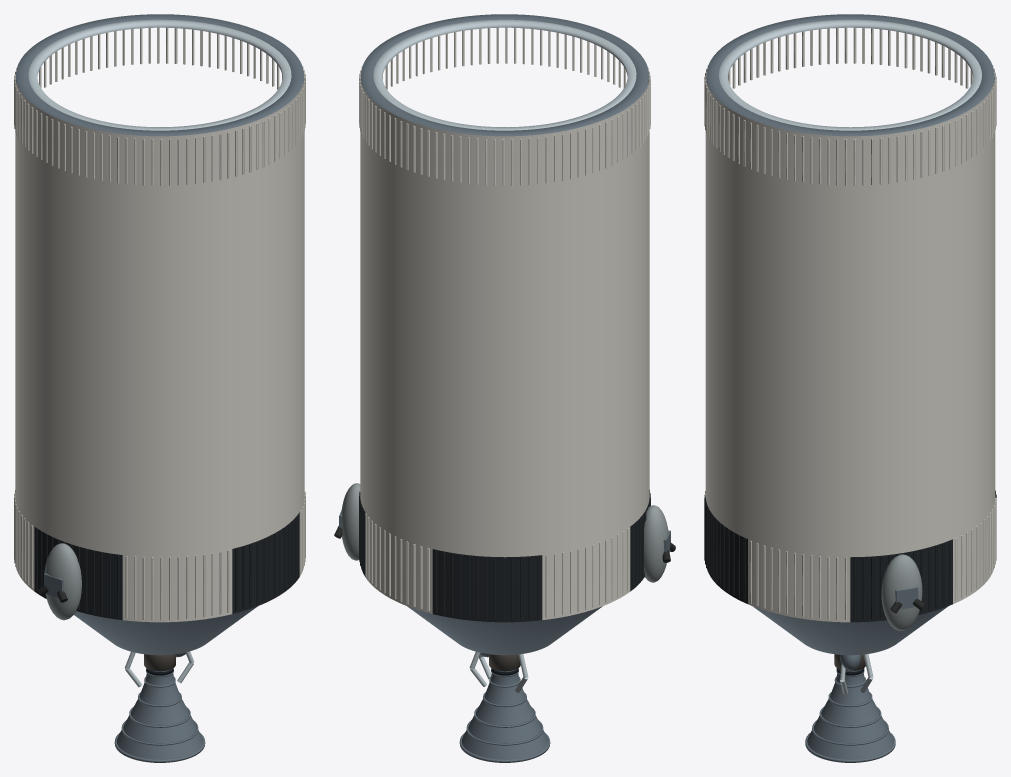
Rendered from s_ivb.glb.
3 views of the same model, side by side, from view 1: azimuth 30°, elevation 25°; view 2: azimuth 150°, elevation 25°; view 3: azimuth 270°, elevation 25° (orthographic).
Visible parts, largest first — view 1: s_ivb.skin.mesh, s_ivb.mesh, s_ivb.j2_01.nozzle.mesh, s_ivb.aps_02.mesh, s_ivb.j2_01.mesh; view 2: s_ivb.skin.mesh, s_ivb.mesh, s_ivb.j2_01.nozzle.mesh, s_ivb.aps_02.mesh, s_ivb.aps_01.mesh, s_ivb.j2_01.mesh; view 3: s_ivb.skin.mesh, s_ivb.mesh, s_ivb.j2_01.nozzle.mesh, s_ivb.aps_01.mesh, s_ivb.j2_01.mesh.
Boxes of the visible parts, bbox=[...] form: s_ivb.skin.mesh: bbox=[14, 27, 305, 622]; s_ivb.mesh: bbox=[16, 14, 303, 655]; s_ivb.j2_01.nozzle.mesh: bbox=[114, 668, 205, 762]; s_ivb.aps_02.mesh: bbox=[38, 543, 81, 620]; s_ivb.j2_01.mesh: bbox=[125, 651, 194, 687]; s_ivb.skin.mesh: bbox=[359, 27, 650, 622]; s_ivb.mesh: bbox=[361, 14, 648, 655]; s_ivb.j2_01.nozzle.mesh: bbox=[459, 668, 550, 762]; s_ivb.aps_02.mesh: bbox=[644, 505, 675, 582]; s_ivb.aps_01.mesh: bbox=[334, 483, 360, 560]; s_ivb.j2_01.mesh: bbox=[469, 651, 528, 692]; s_ivb.skin.mesh: bbox=[704, 27, 996, 622]; s_ivb.mesh: bbox=[706, 14, 994, 655]; s_ivb.j2_01.nozzle.mesh: bbox=[805, 668, 895, 762]; s_ivb.aps_01.mesh: bbox=[881, 554, 924, 630]; s_ivb.j2_01.mesh: bbox=[834, 654, 873, 694].
Size of the model in its own units: 7.56 by 16.84 by 6.66.
